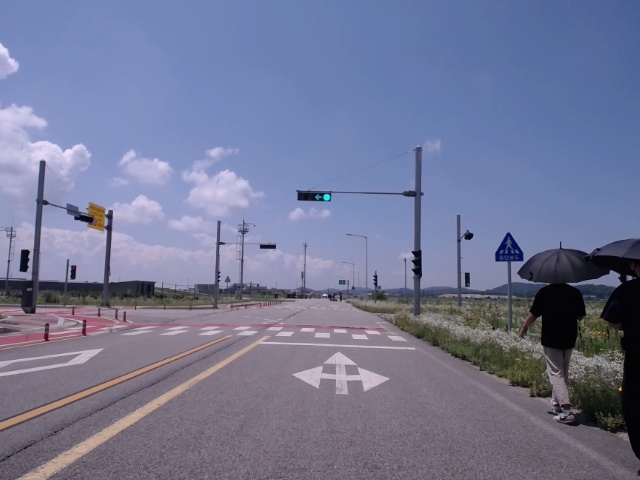all_green_4: (295, 189, 332, 202)
